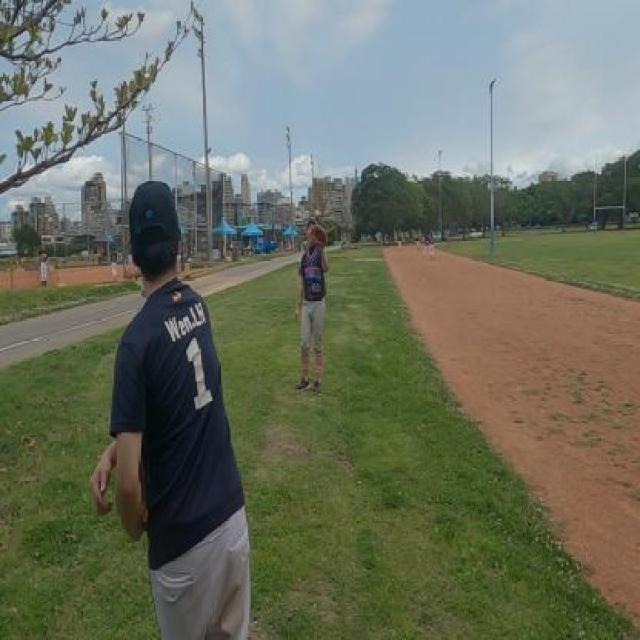baseball: (314, 210, 320, 218)
